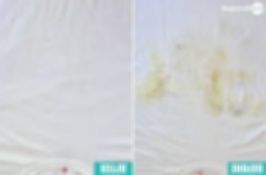earth: (228, 96, 265, 118), (207, 67, 225, 112), (146, 67, 168, 98), (233, 69, 250, 82)
